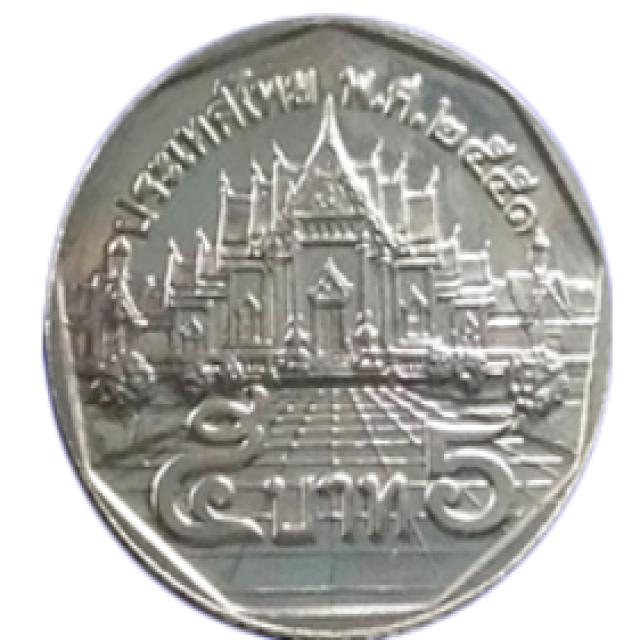5 Bath: (33, 1, 629, 638)
